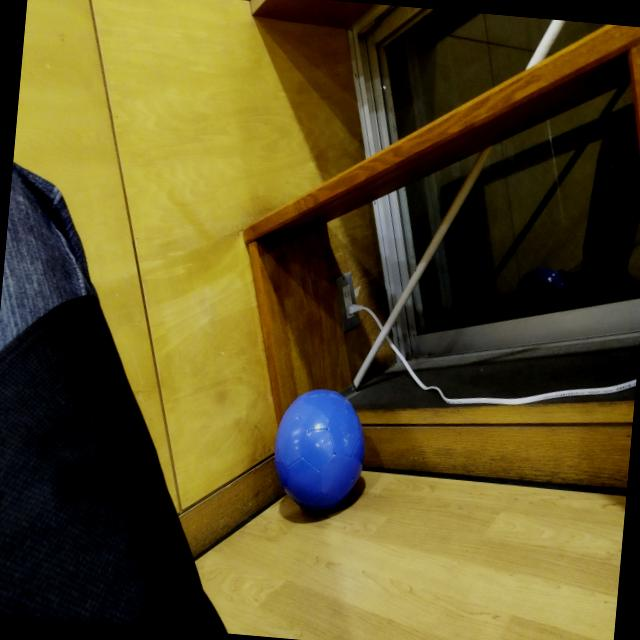blue_ball: (266, 387, 371, 518)
